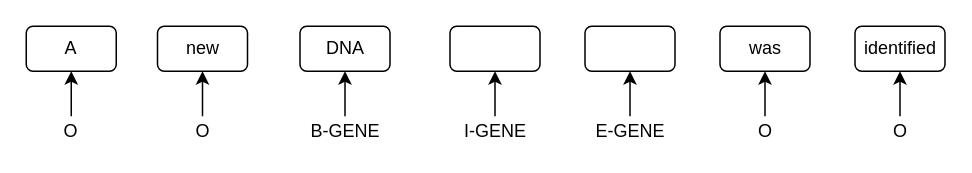
The diagram is 972 pixels wide and 173 high, and some of its shapes have lost their labels. The box of each missing label's shape, as (x1, y1, x2, y2) in pixels:
gene: (584, 25, 675, 71)
repair: (448, 25, 540, 71)
